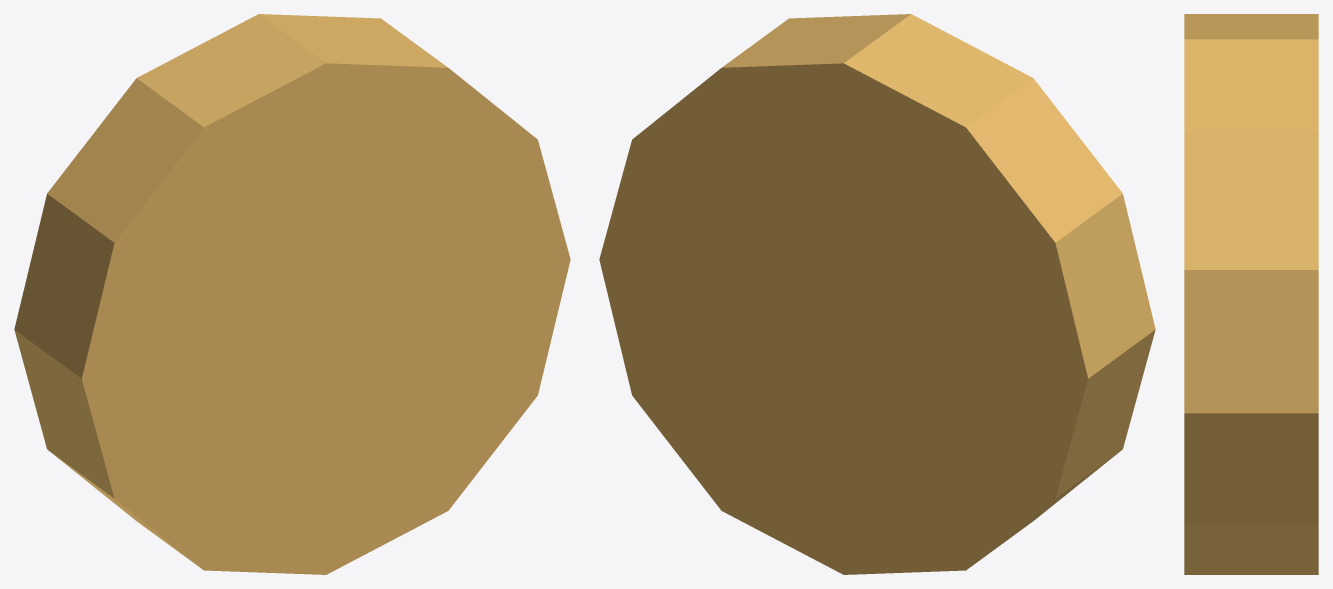
The model's file is coin.dae.
3 views of the same model, side by side, from view 1: azimuth 30°, elevation 25°; view 2: azimuth 150°, elevation 25°; view 3: azimuth 270°, elevation 25° (orthographic).
Parts seen in each view (by area): view 1: Cylinder; view 2: Cylinder; view 3: Cylinder.
Boxes of the visible parts, x1,y1,x2,y2 form: Cylinder: (14, 14, 570, 574); Cylinder: (599, 14, 1155, 574); Cylinder: (1184, 14, 1318, 574).
Bounding box in the file's own units: 0.5271 × 0.1259 × 0.5271.
